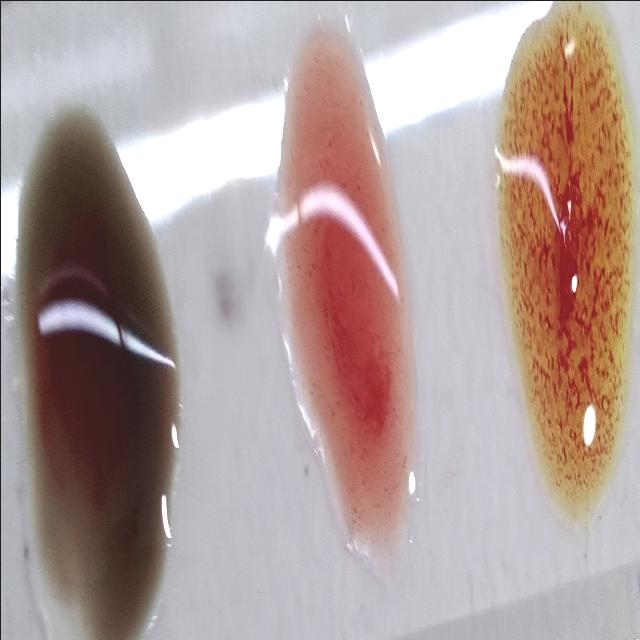B: (502, 28, 616, 514)
D: (270, 21, 404, 527)
